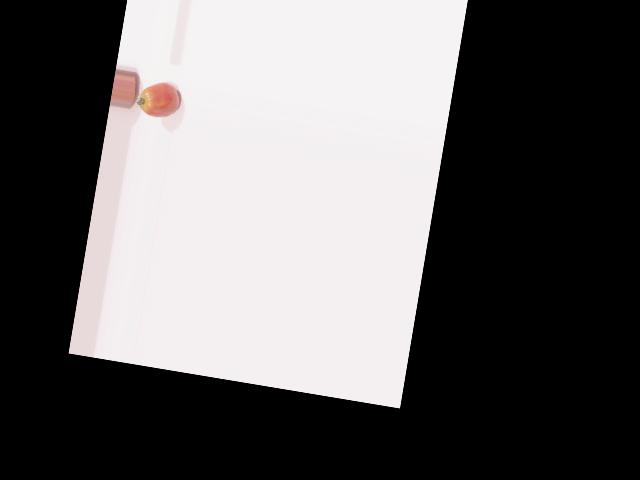tomato: (136, 78, 181, 119)
